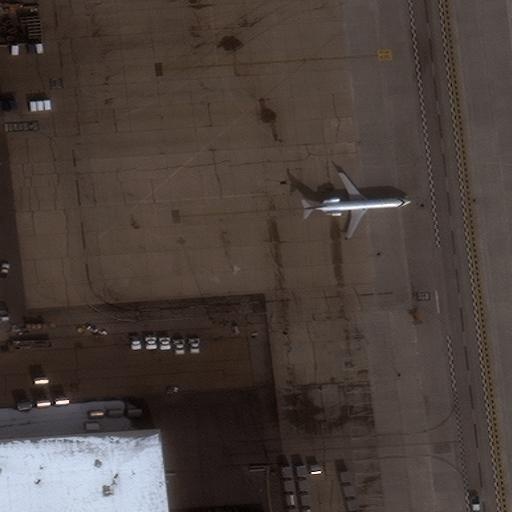Medium Civil Transport: (302, 172, 411, 238)
